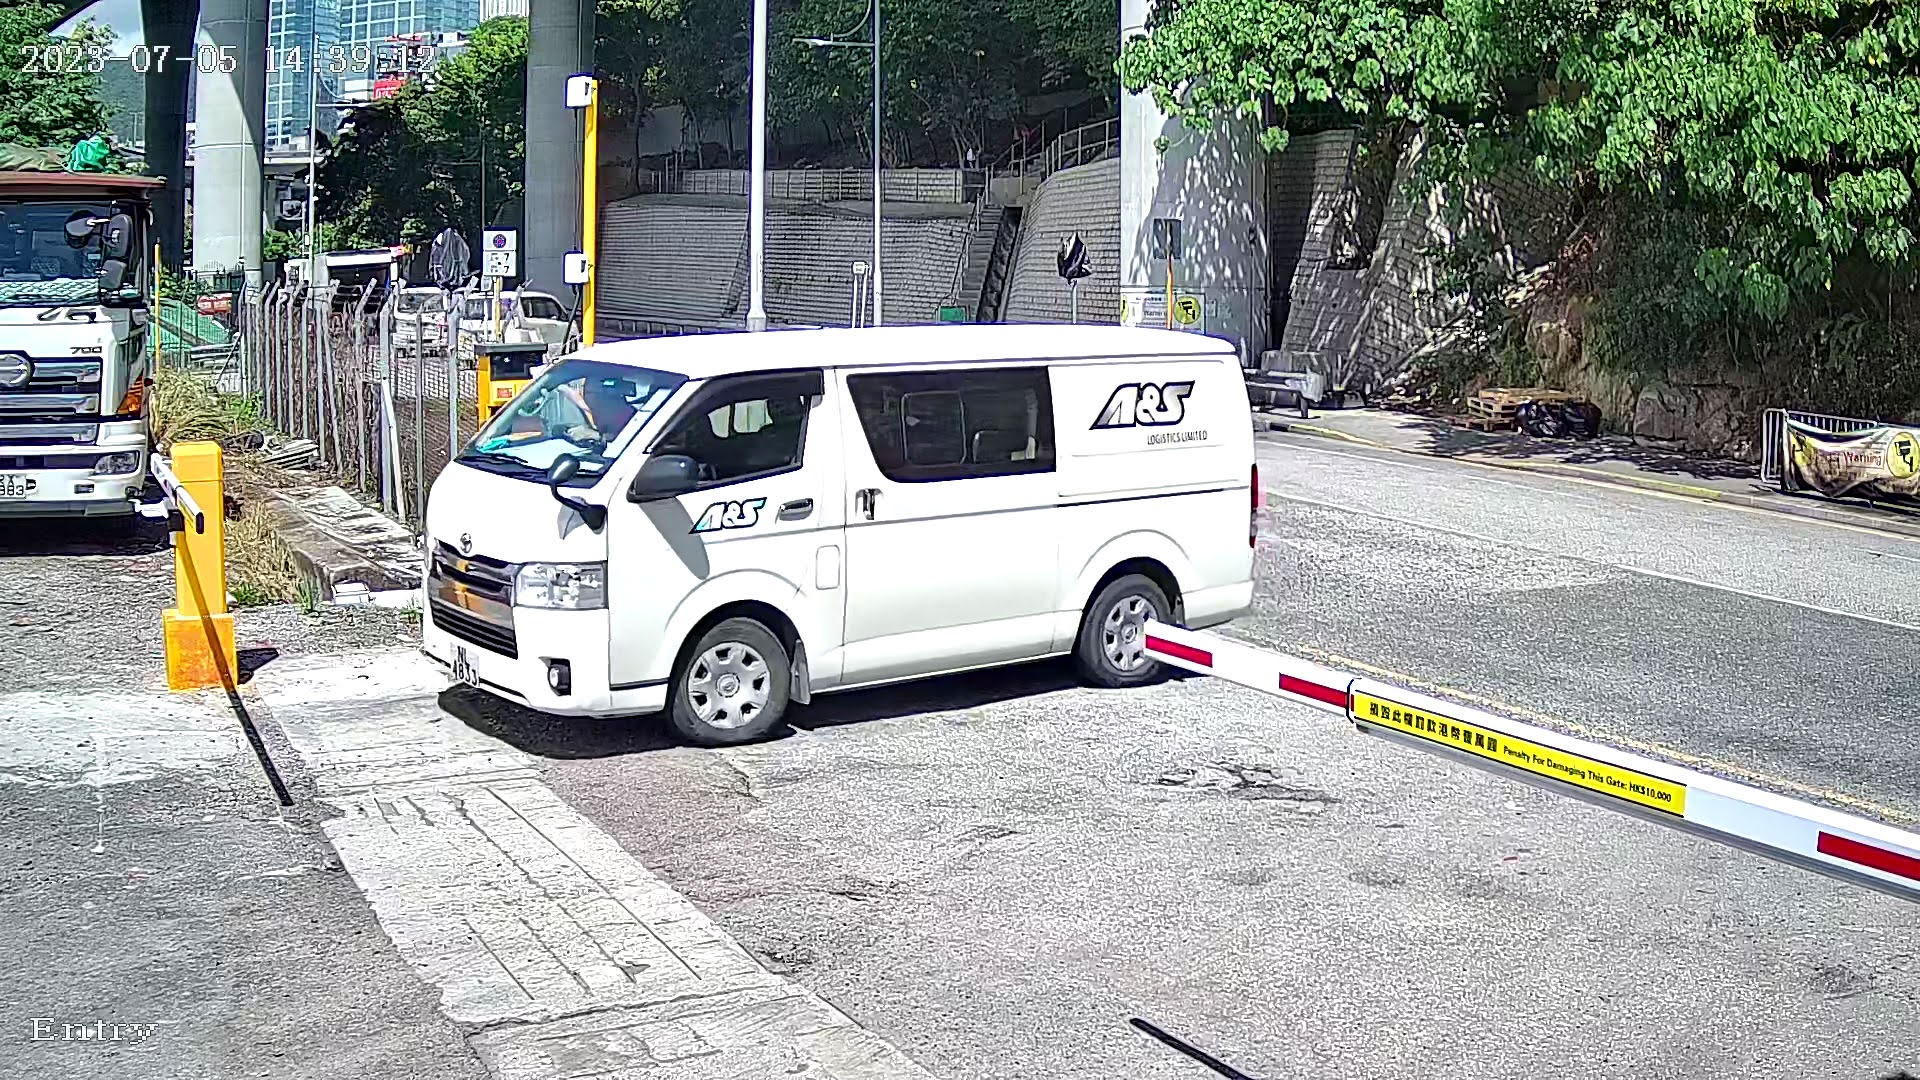privatecar: (390, 287, 1331, 771)
